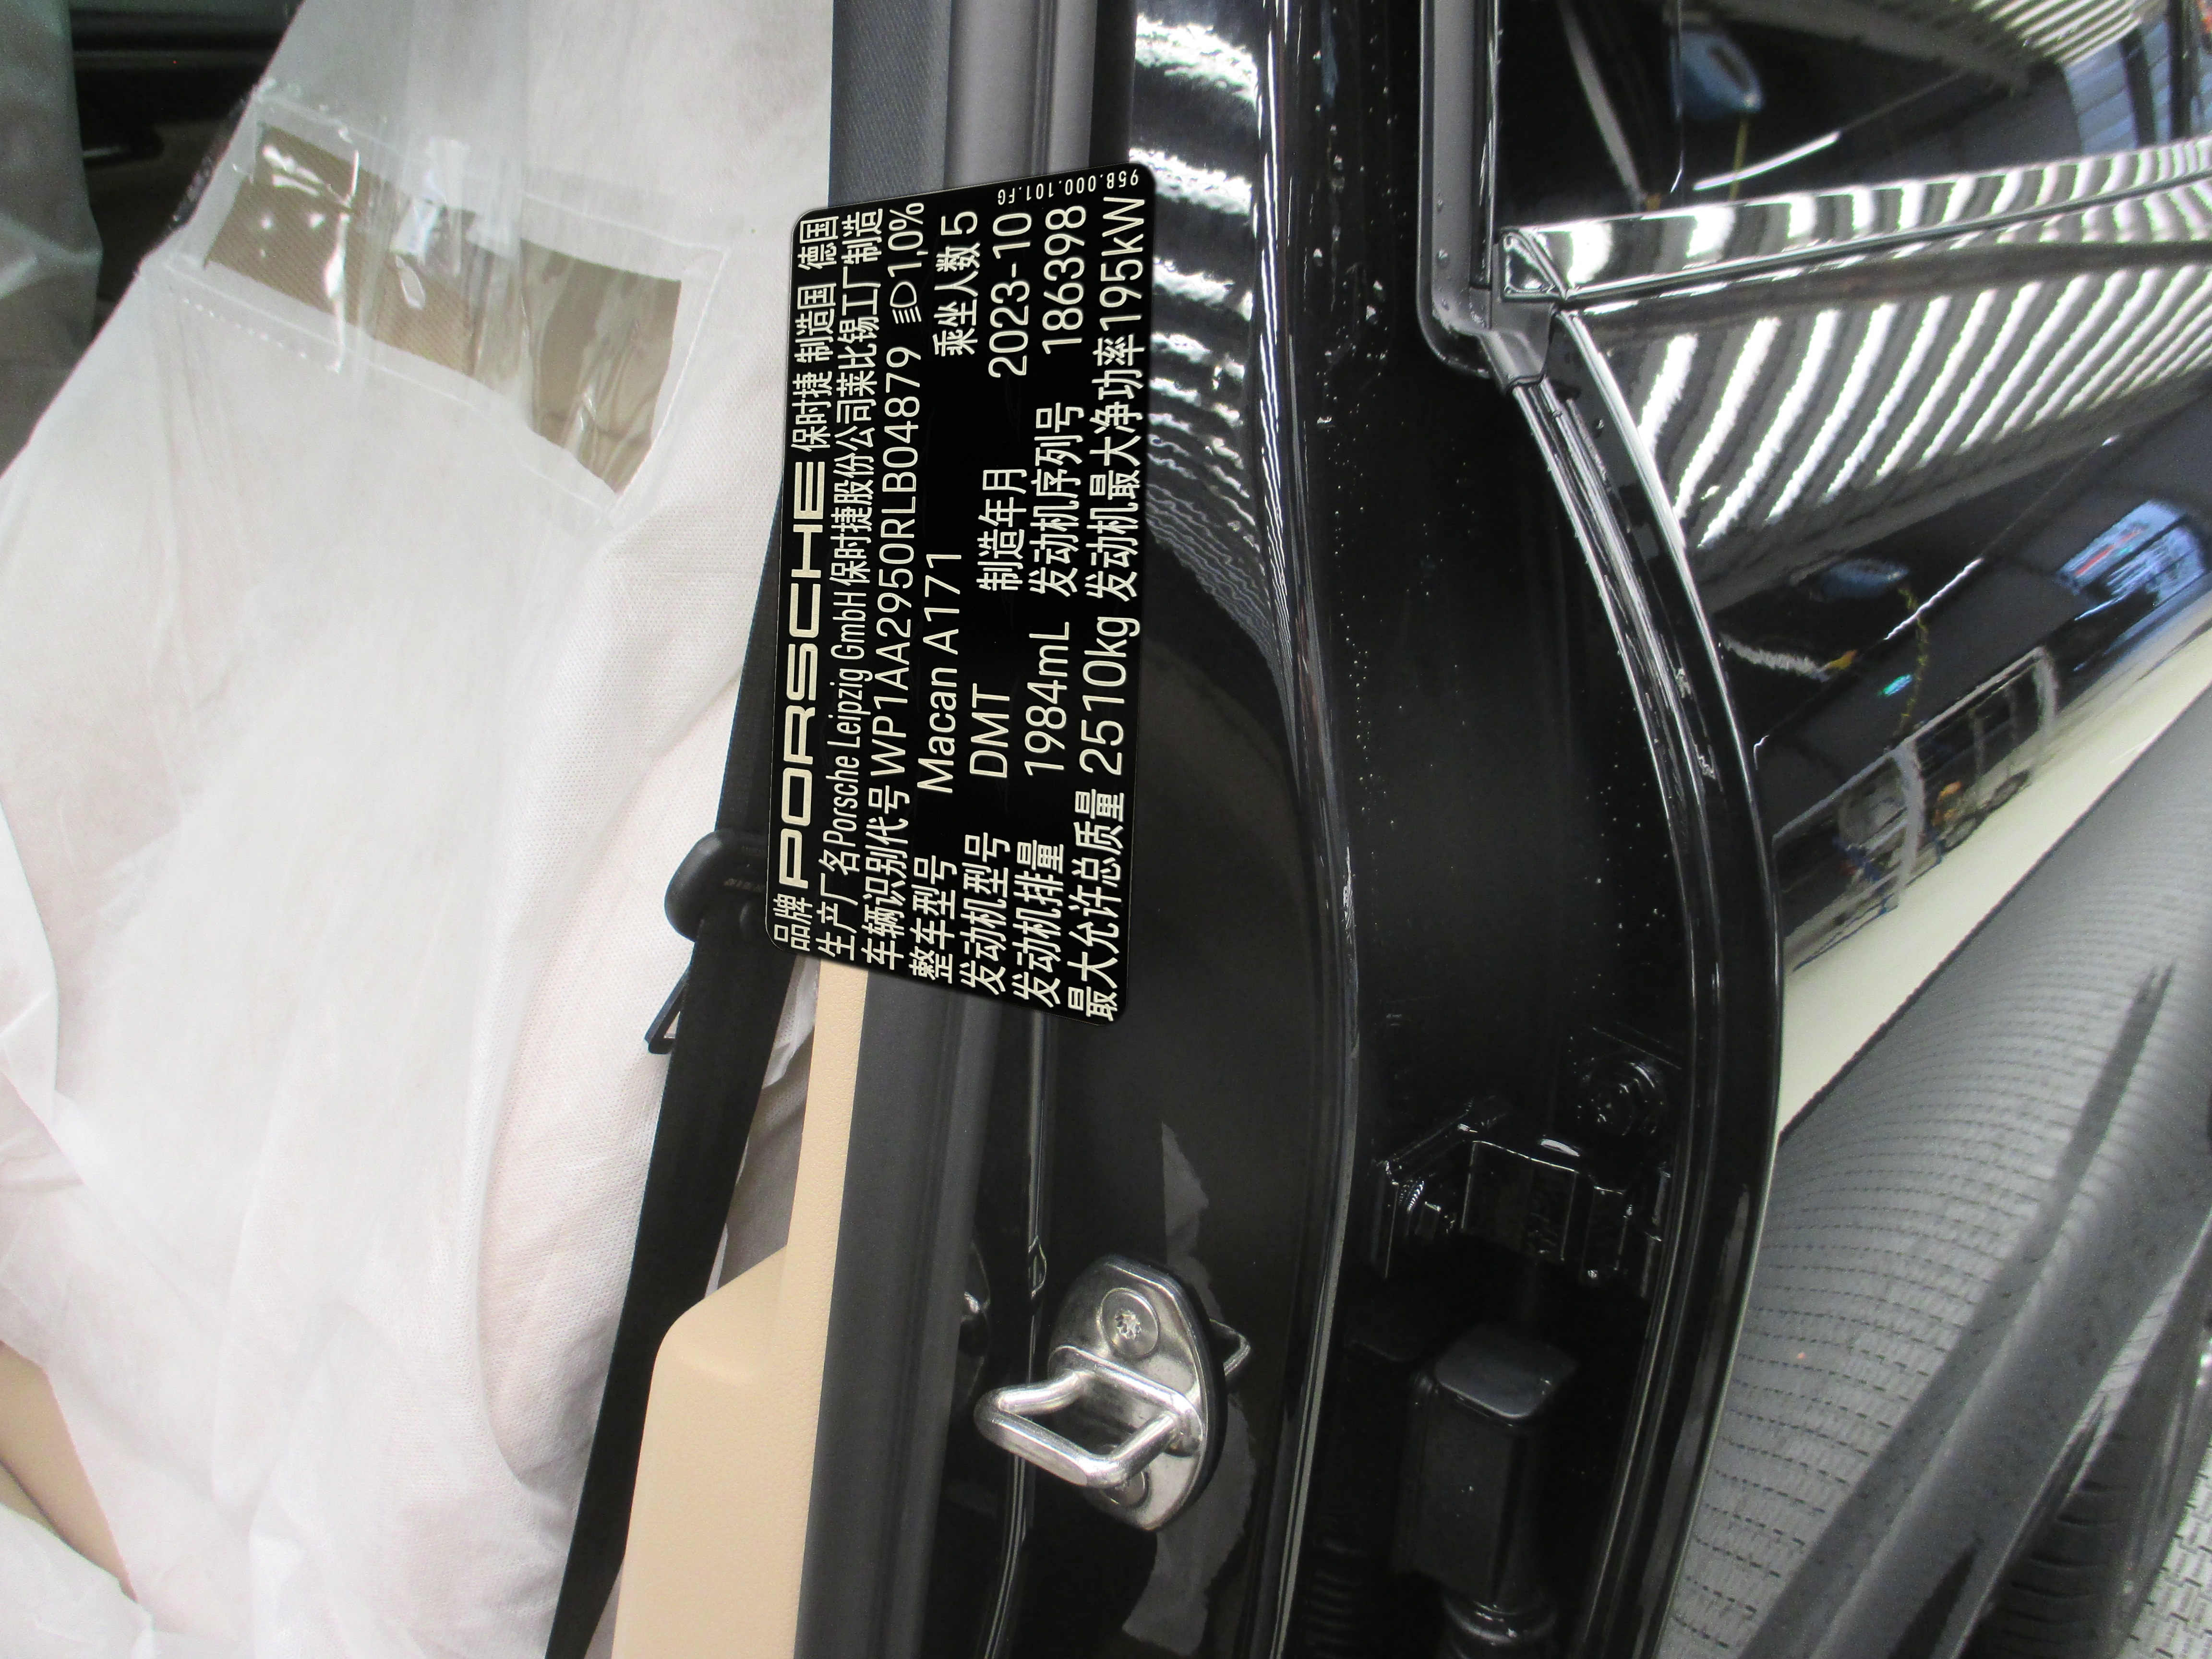Typlabel-China: (765, 162, 1155, 1025)
